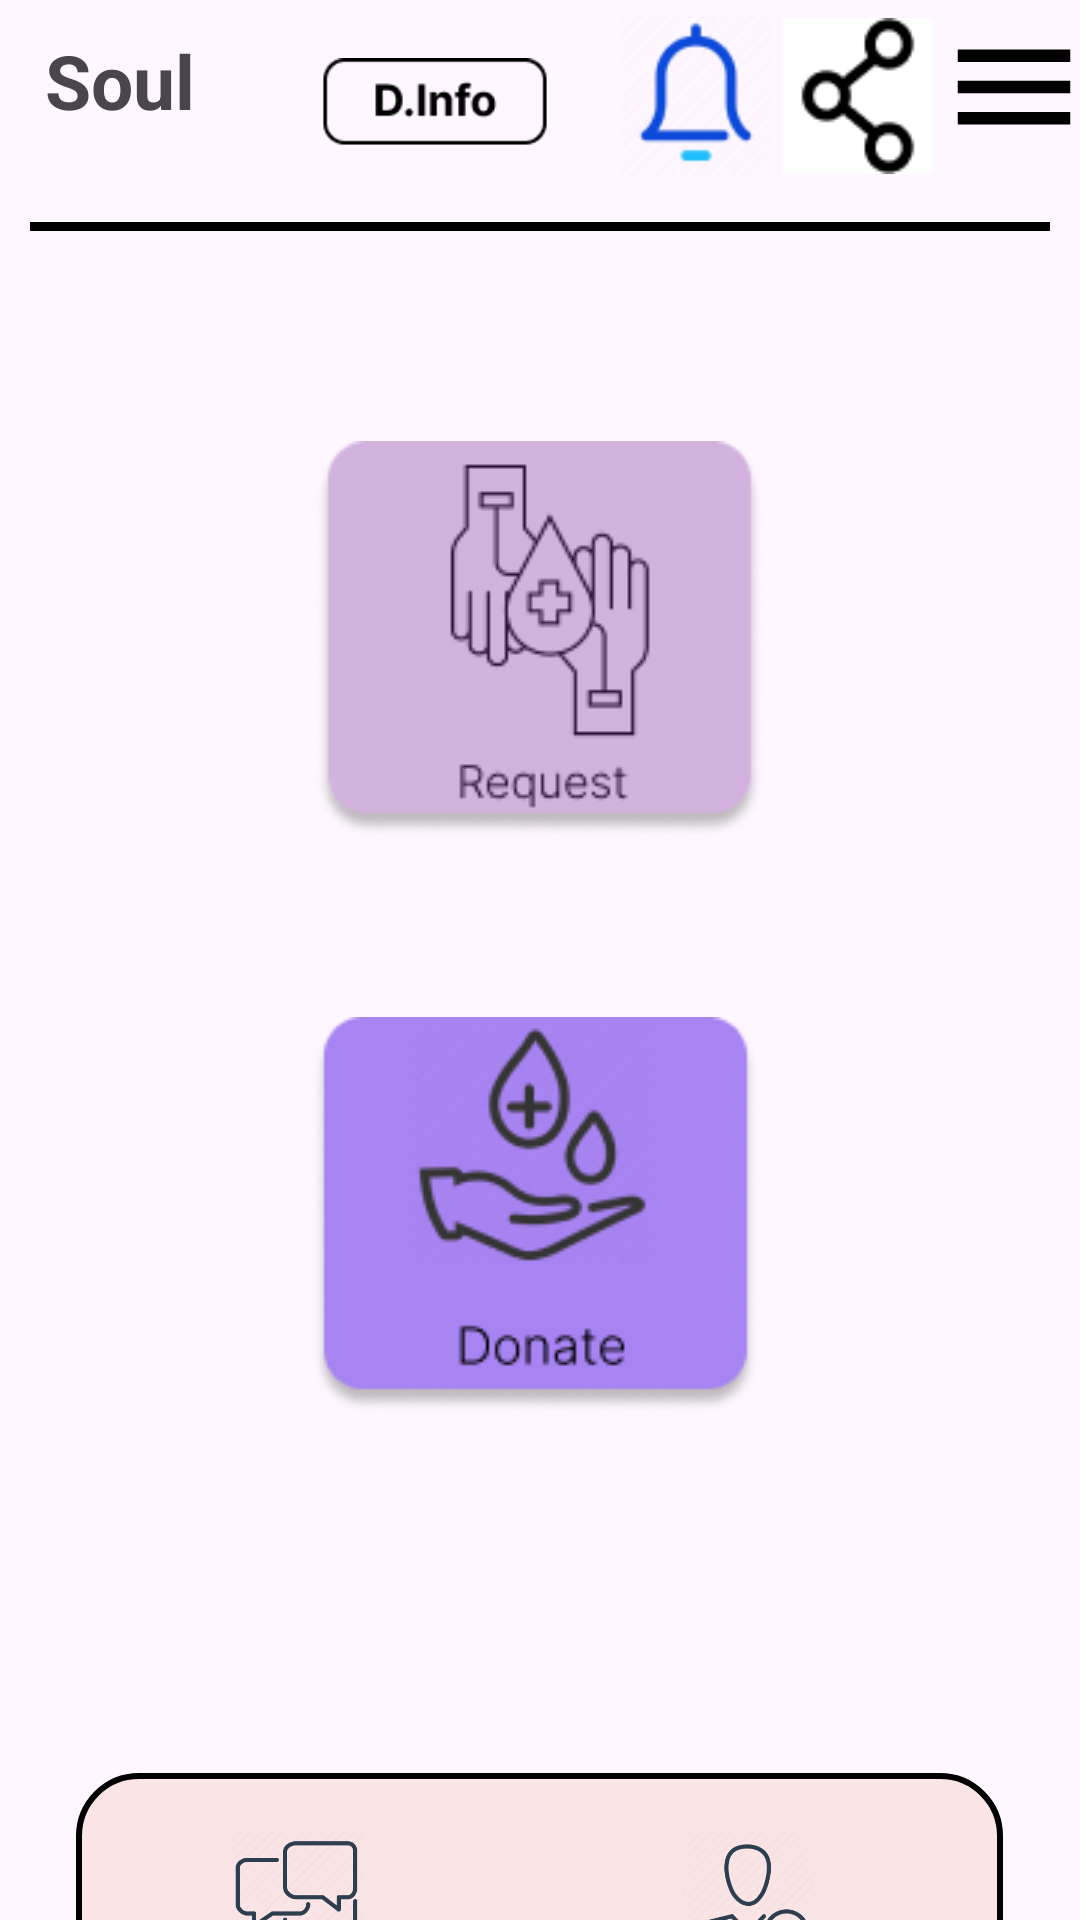

Icons on this 1080w x 1920h Android screen, each with the point to tap as point (x, y):
menu: point (1014, 87)
notification: point (696, 92)
share: point (858, 96)
